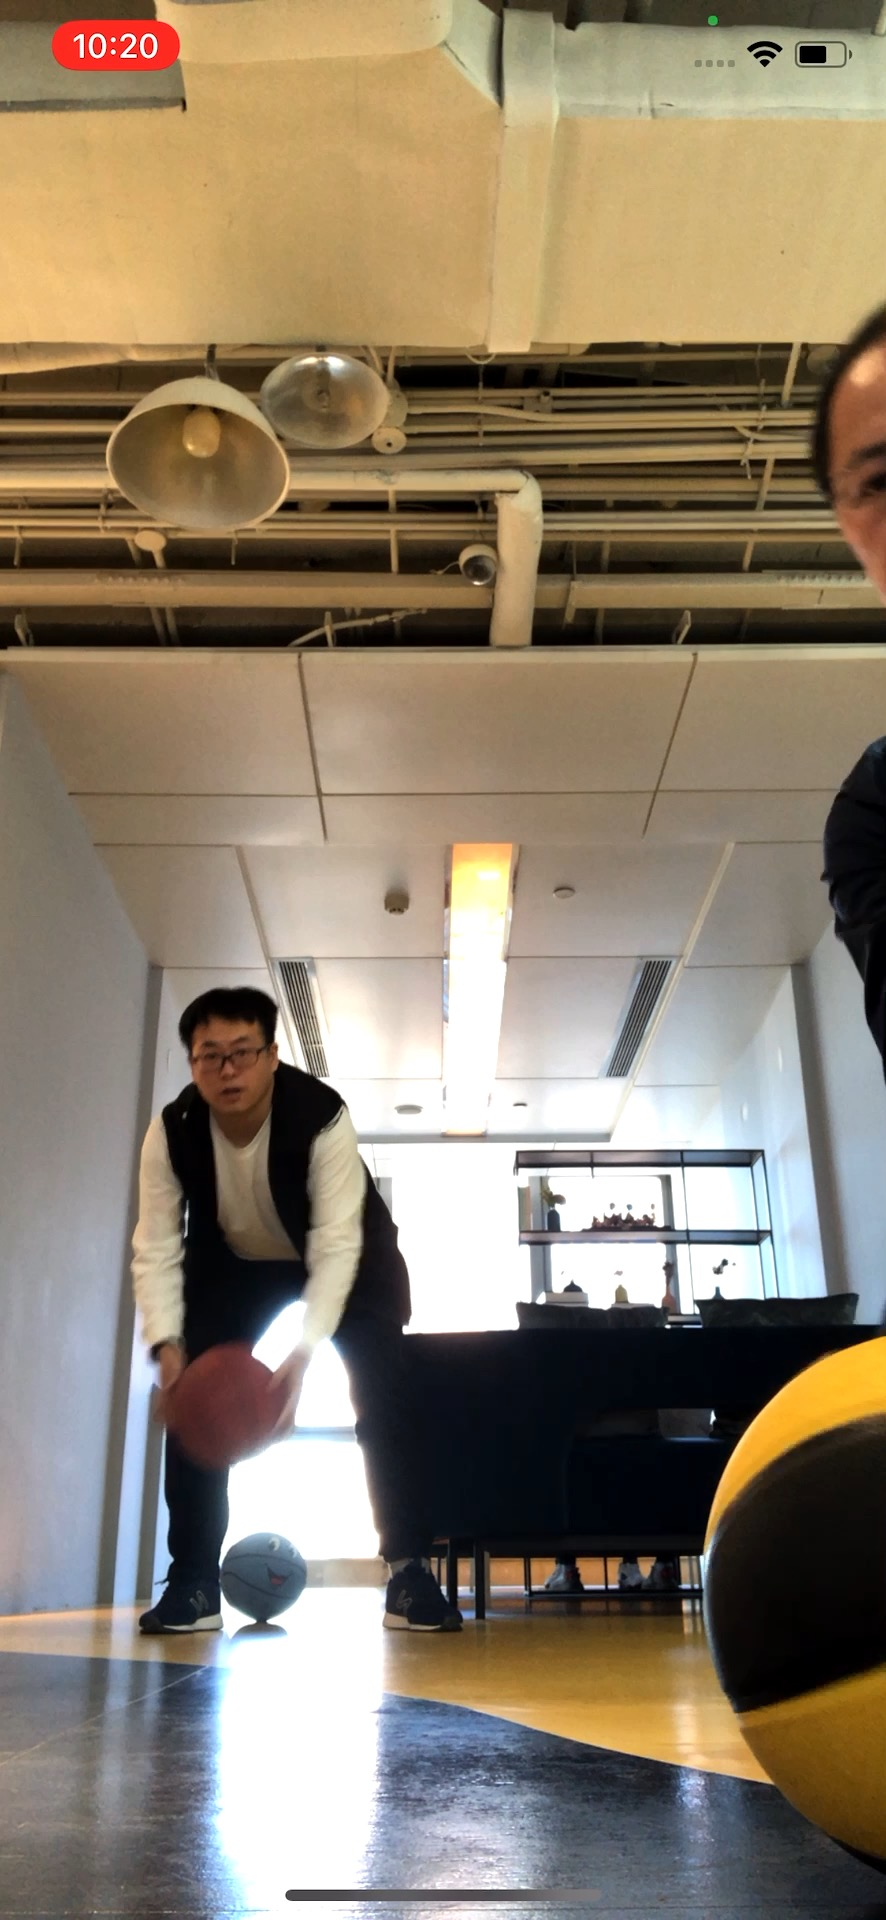ball: (700, 1329, 886, 1873), (163, 1343, 284, 1472), (223, 1531, 310, 1616)
